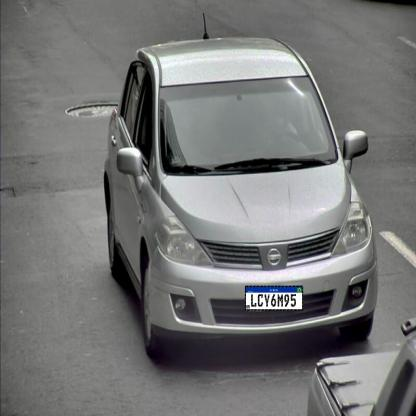PlacaM: (245, 286, 303, 310)
